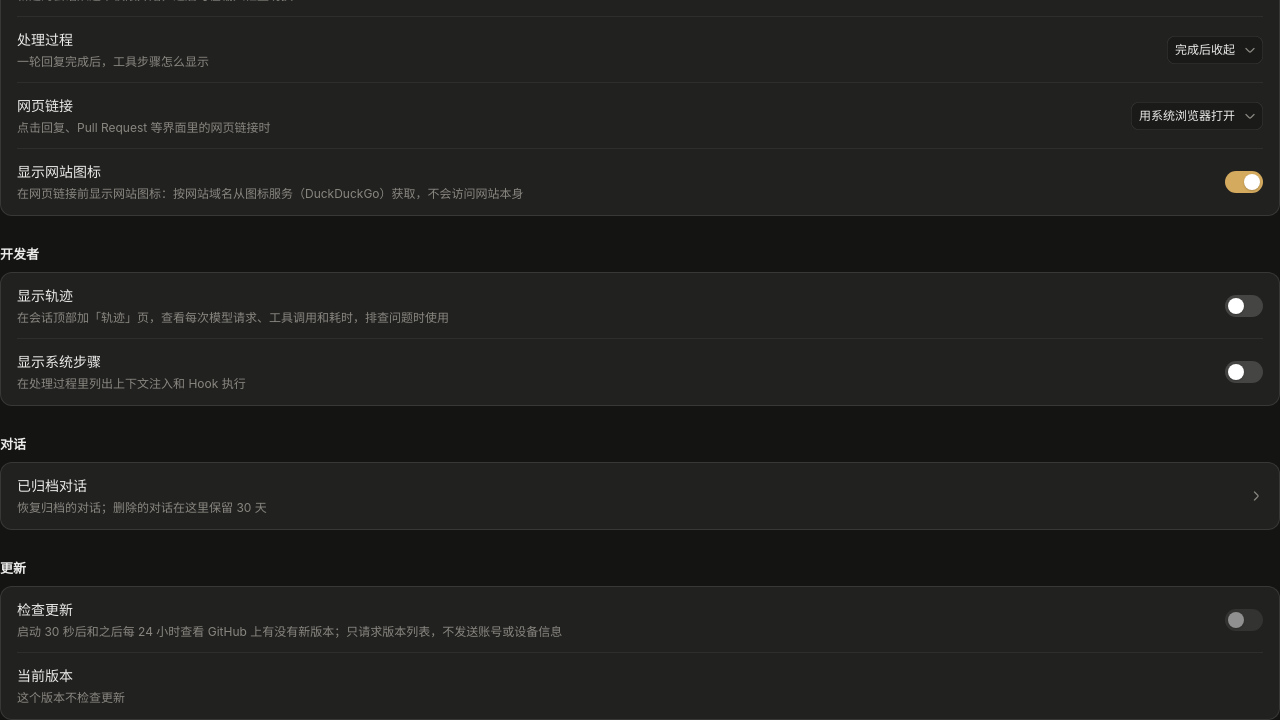
Scenario: GeneralSection archive (FIX-01 8) › opens the archive from its row on the main page
(page scrolled)
Click the button with test id "open-archived": [52, 486] box [1,463,1279,529]
(page scrolled)
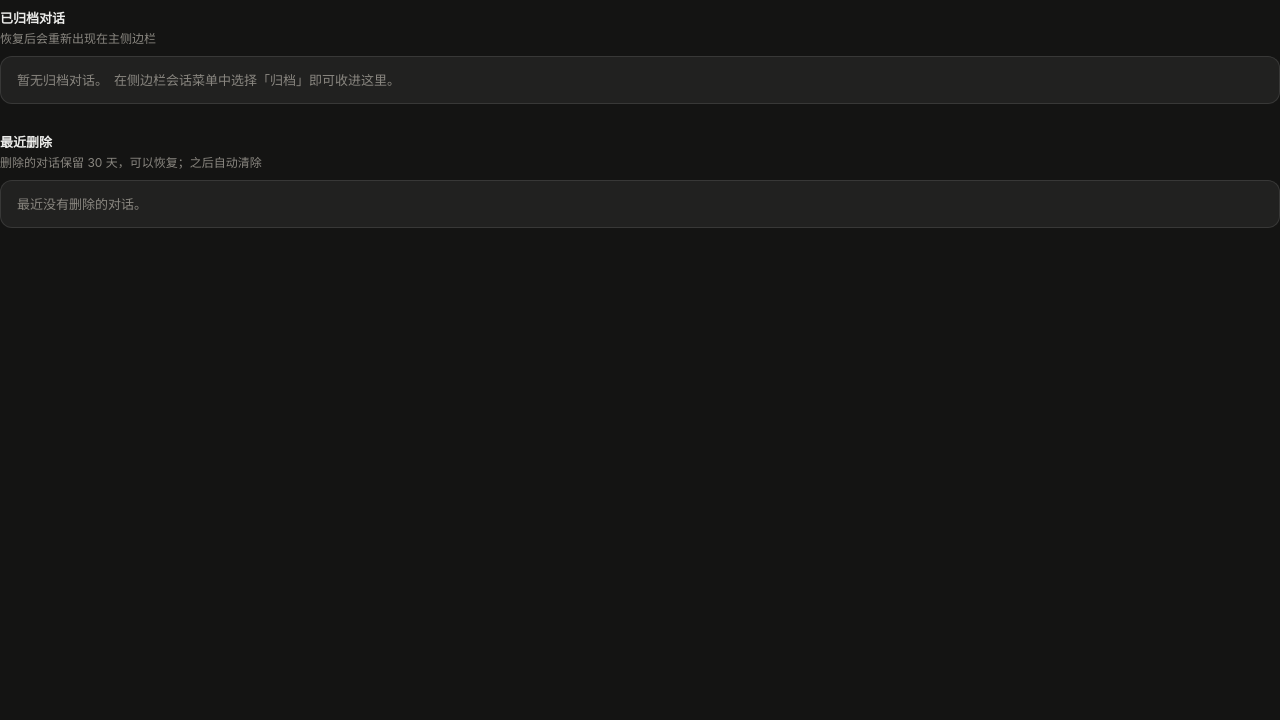
Expected: the element showing "已归档对话 恢复后会重新出现在主侧边栏 暂无归档对话。在侧边栏会话菜单中选择「归档」即可收进这里。" is shown, [0,0,1279,104]
Expected: the element showing "最近删除 删除的对话保留 30 天，可以恢复；之后自动清除 最近没有删除的对话。" is shown, [0,124,1279,228]
